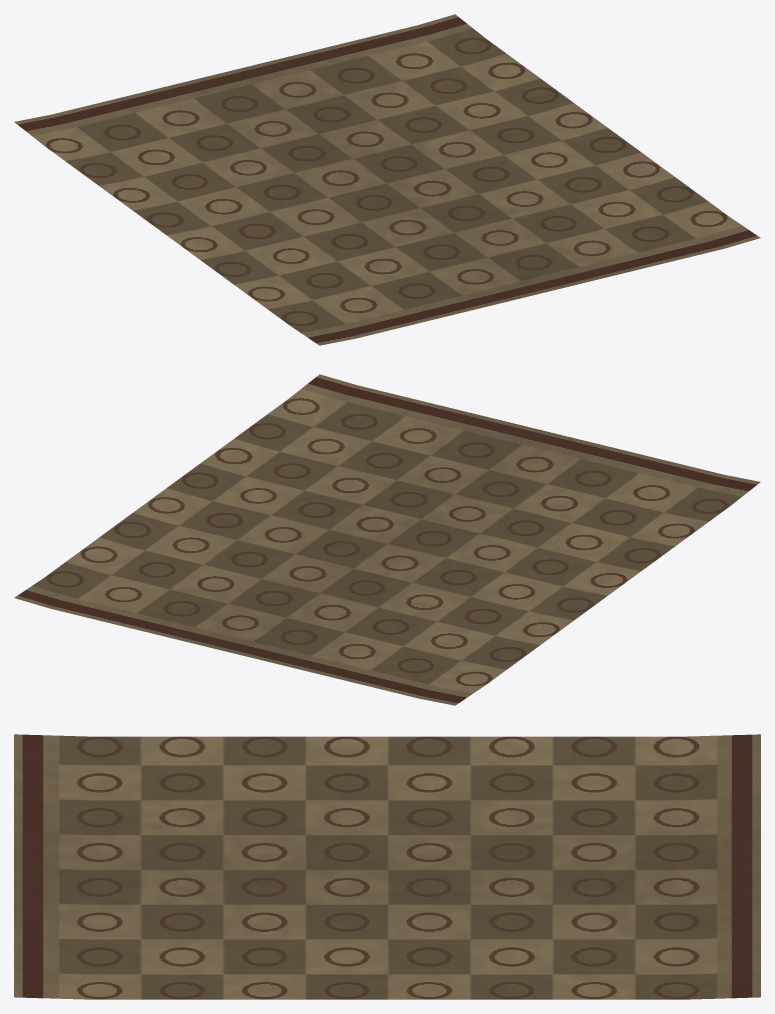
The model's file is lino_rug.glb.
3 renders of one model, top to bottom at view 1: azimuth 30°, elevation 25°; view 2: azimuth 150°, elevation 25°; view 3: azimuth 270°, elevation 25°, orthographic. The views are drawn at different scales.
Parts seen in each view (by area): view 1: lino_rug; view 2: lino_rug; view 3: lino_rug.
Boxes of the visible parts, x1,y1,x2,y2 form: lino_rug: [14, 14, 760, 345]; lino_rug: [14, 374, 760, 705]; lino_rug: [14, 734, 760, 999].
Bounding box in the file's own units: 2 × 0.0154 × 2.4.
1 material, 1 textured.
